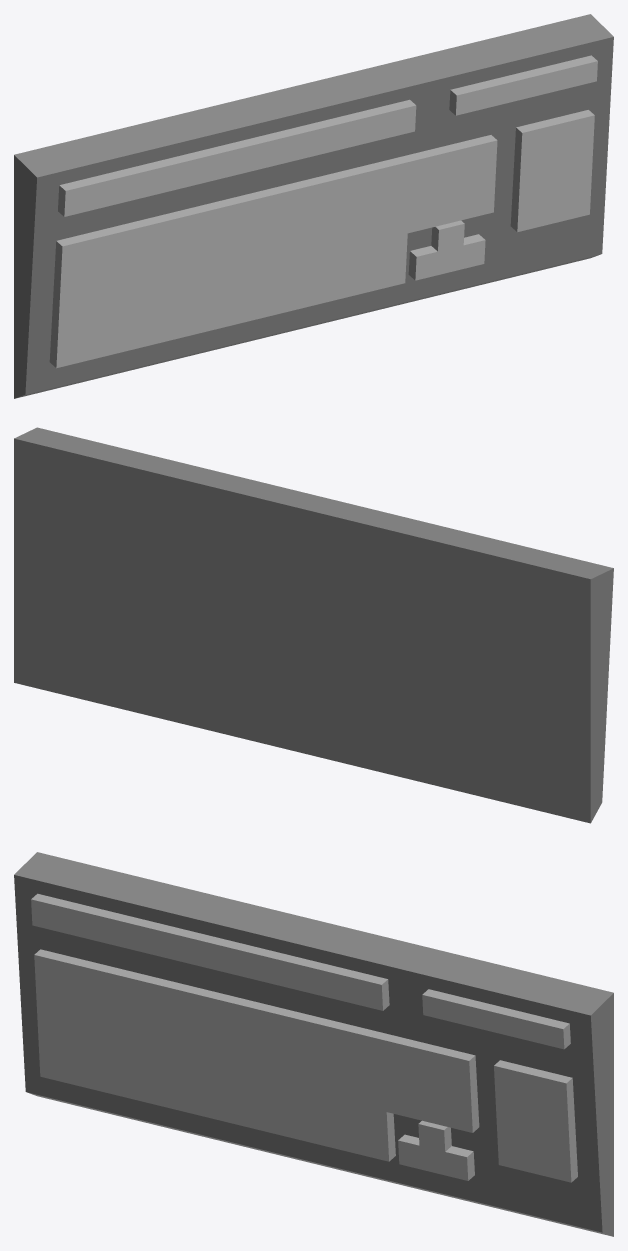
File: Pc_Keyboard.obj
The picture shows the model from 3 angles, top to bottom: view 1: azimuth 30°, elevation 25°; view 2: azimuth 150°, elevation 25°; view 3: azimuth 330°, elevation 25°; orthographic projection.
Parts seen in each view (by area): view 1: Pc_Keyboard; view 2: Pc_Keyboard; view 3: Pc_Keyboard.
Part boxes in pixels (left/top/right/bottom): Pc_Keyboard: left=14, top=14, right=613, bottom=398; Pc_Keyboard: left=14, top=427, right=613, bottom=823; Pc_Keyboard: left=14, top=852, right=613, bottom=1236.
Size of the model in its own units: 0.4202 by 0.17 by 0.0364.
